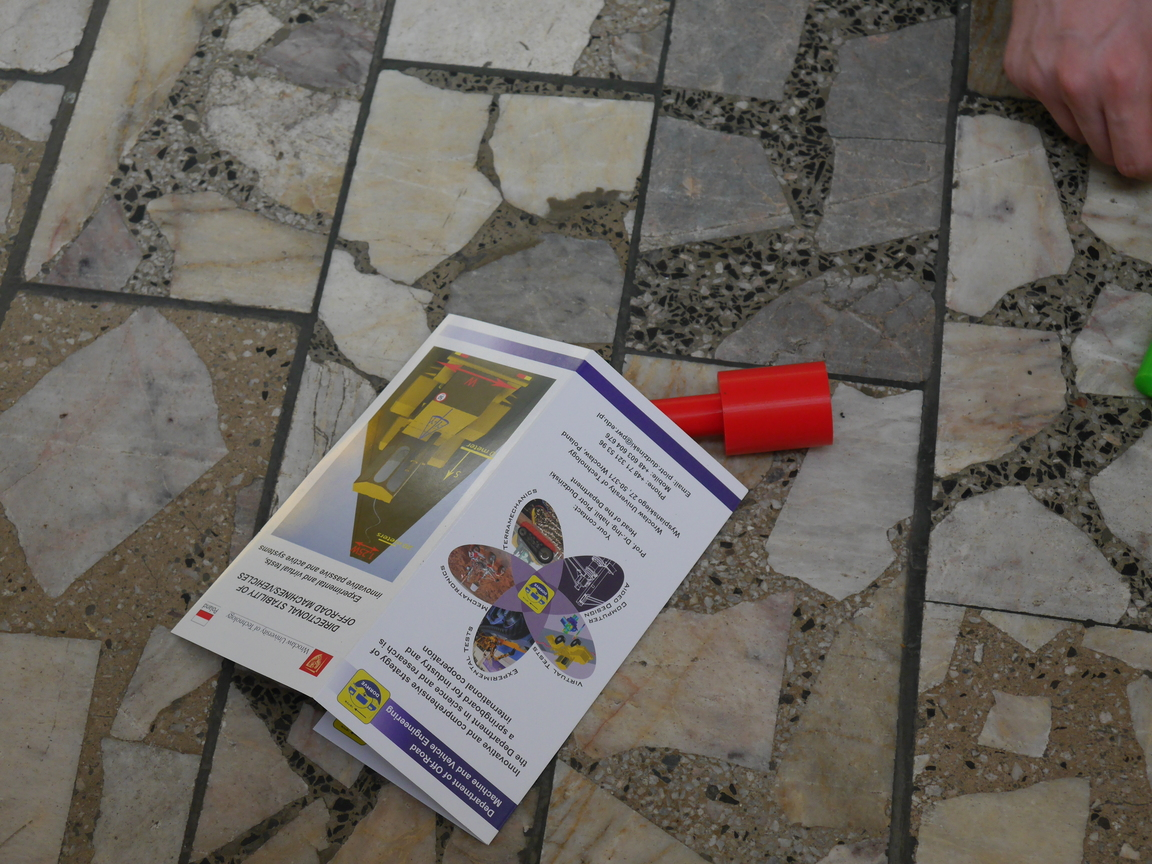cargo_g: (657, 361, 832, 454)
